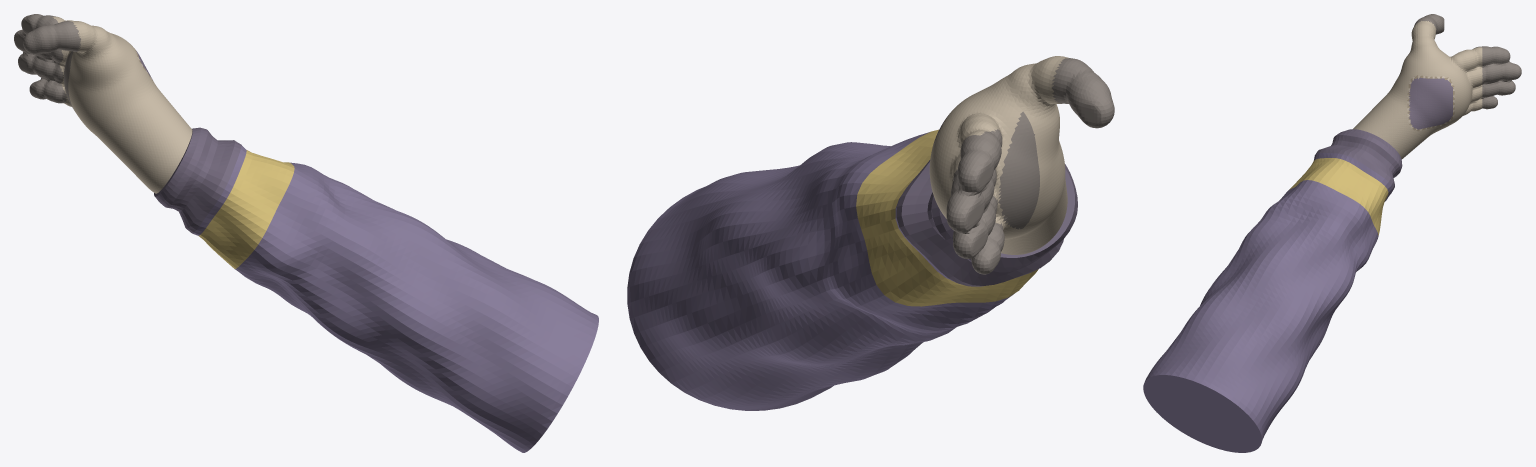
The model's file is carryR.glb.
3 views of the same model, side by side, from view 1: azimuth 30°, elevation 25°; view 2: azimuth 150°, elevation 25°; view 3: azimuth 270°, elevation 25° (orthographic). The views are drawn at different scales.
Visible parts, largest first — view 1: vm_carryR_sleeve_uniform, vm_carryR_glove_canvas, vm_carryR_sleeve_stripe, vm_carryR_sleeve_cuff, vm_carryR_glove_grip; view 2: vm_carryR_sleeve_uniform, vm_carryR_glove_grip, vm_carryR_glove_canvas, vm_carryR_sleeve_stripe, vm_carryR_sleeve_cuff; view 3: vm_carryR_sleeve_uniform, vm_carryR_glove_canvas, vm_carryR_sleeve_stripe, vm_carryR_sleeve_cuff, vm_carryR_glove_grip, vm_carryR_glove_patch.
Boxes of the visible parts, x1=… form: vm_carryR_sleeve_uniform: x1=192, y1=144, x2=598, y2=452; vm_carryR_glove_canvas: x1=52, y1=16, x2=192, y2=193; vm_carryR_sleeve_stripe: x1=199, y1=150, x2=294, y2=268; vm_carryR_sleeve_cuff: x1=154, y1=127, x2=241, y2=233; vm_carryR_glove_grip: x1=14, y1=14, x2=80, y2=107; vm_carryR_sleeve_uniform: x1=627, y1=132, x2=1014, y2=410; vm_carryR_glove_grip: x1=946, y1=57, x2=1114, y2=274; vm_carryR_glove_canvas: x1=929, y1=56, x2=1068, y2=254; vm_carryR_sleeve_stripe: x1=856, y1=129, x2=1038, y2=306; vm_carryR_sleeve_cuff: x1=896, y1=160, x2=1077, y2=286; vm_carryR_sleeve_uniform: x1=1143, y1=153, x2=1392, y2=452; vm_carryR_glove_canvas: x1=1353, y1=20, x2=1482, y2=159; vm_carryR_sleeve_stripe: x1=1289, y1=158, x2=1388, y2=235; vm_carryR_sleeve_cuff: x1=1315, y1=129, x2=1402, y2=190; vm_carryR_glove_grip: x1=1414, y1=14, x2=1521, y2=109; vm_carryR_glove_patch: x1=1409, y1=77, x2=1452, y2=129.
Bounding box in the file's own units: 0.5901 × 0.5189 × 0.5747.
